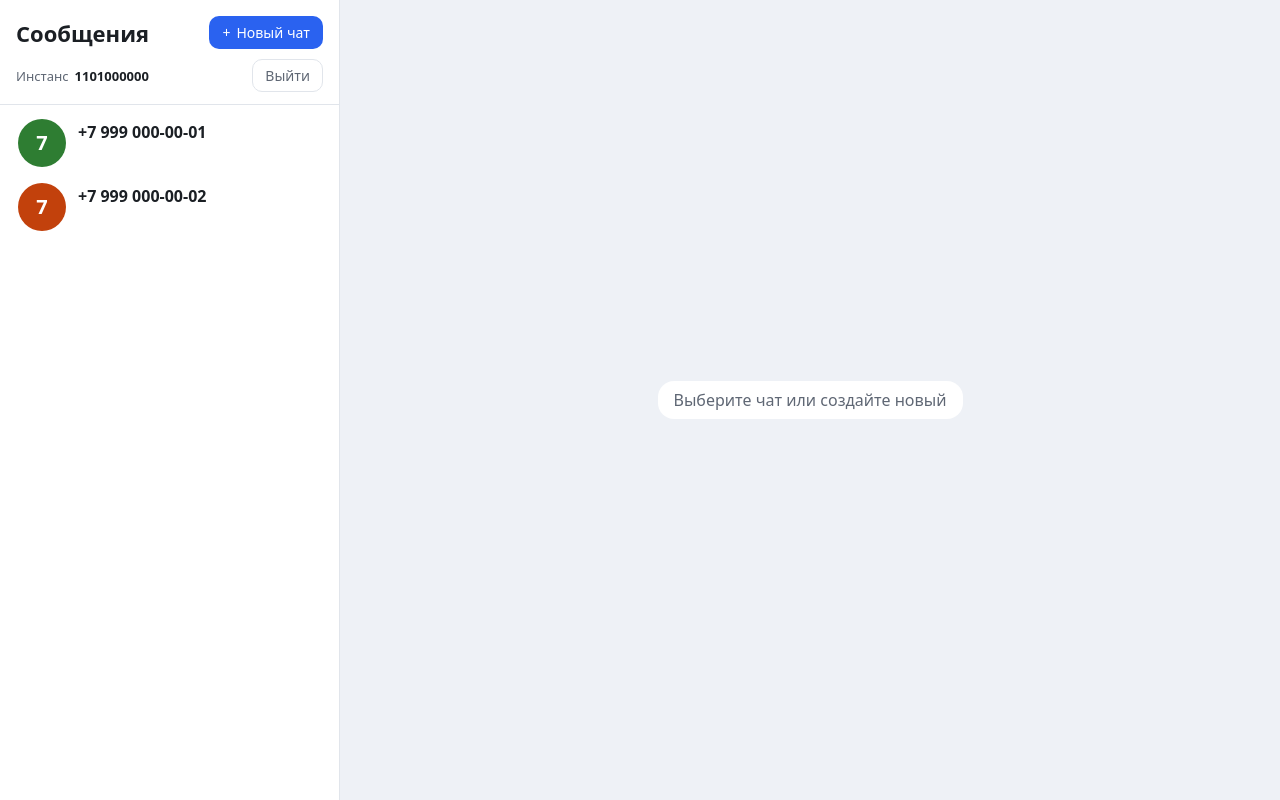
Test: лента (§4.0 п. 2, Р-11, Р-16, EC-U4, EC-U5, EC-O1) › битая лента в localStorage — пустая, без исключения (EC-D8)
This screenshot has width=1280, height=800.
Click the button with test id "chat-item" showing "7 +7 999 000-00-01": (170, 143) [8,111,331,175]
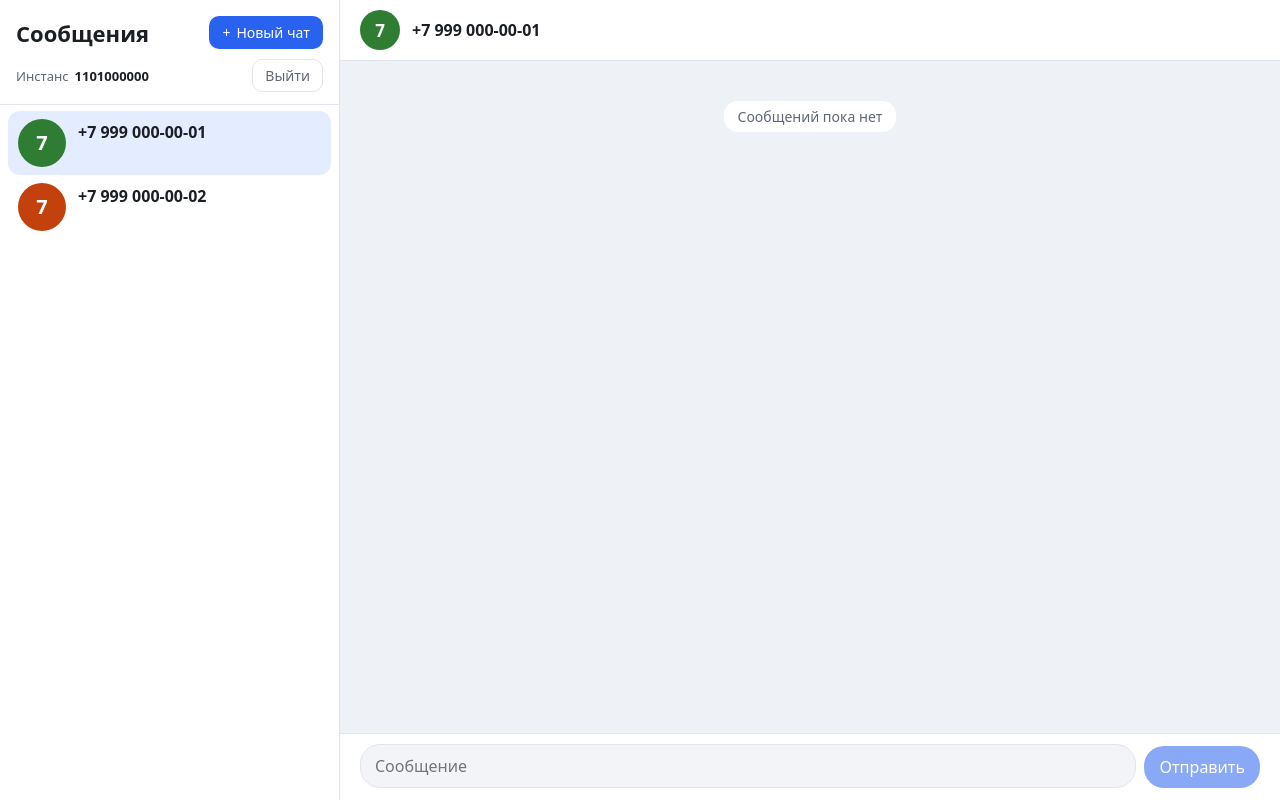
Now the text with test id "messages-empty" reads "Сообщений пока нет", box [738,107,882,126]
